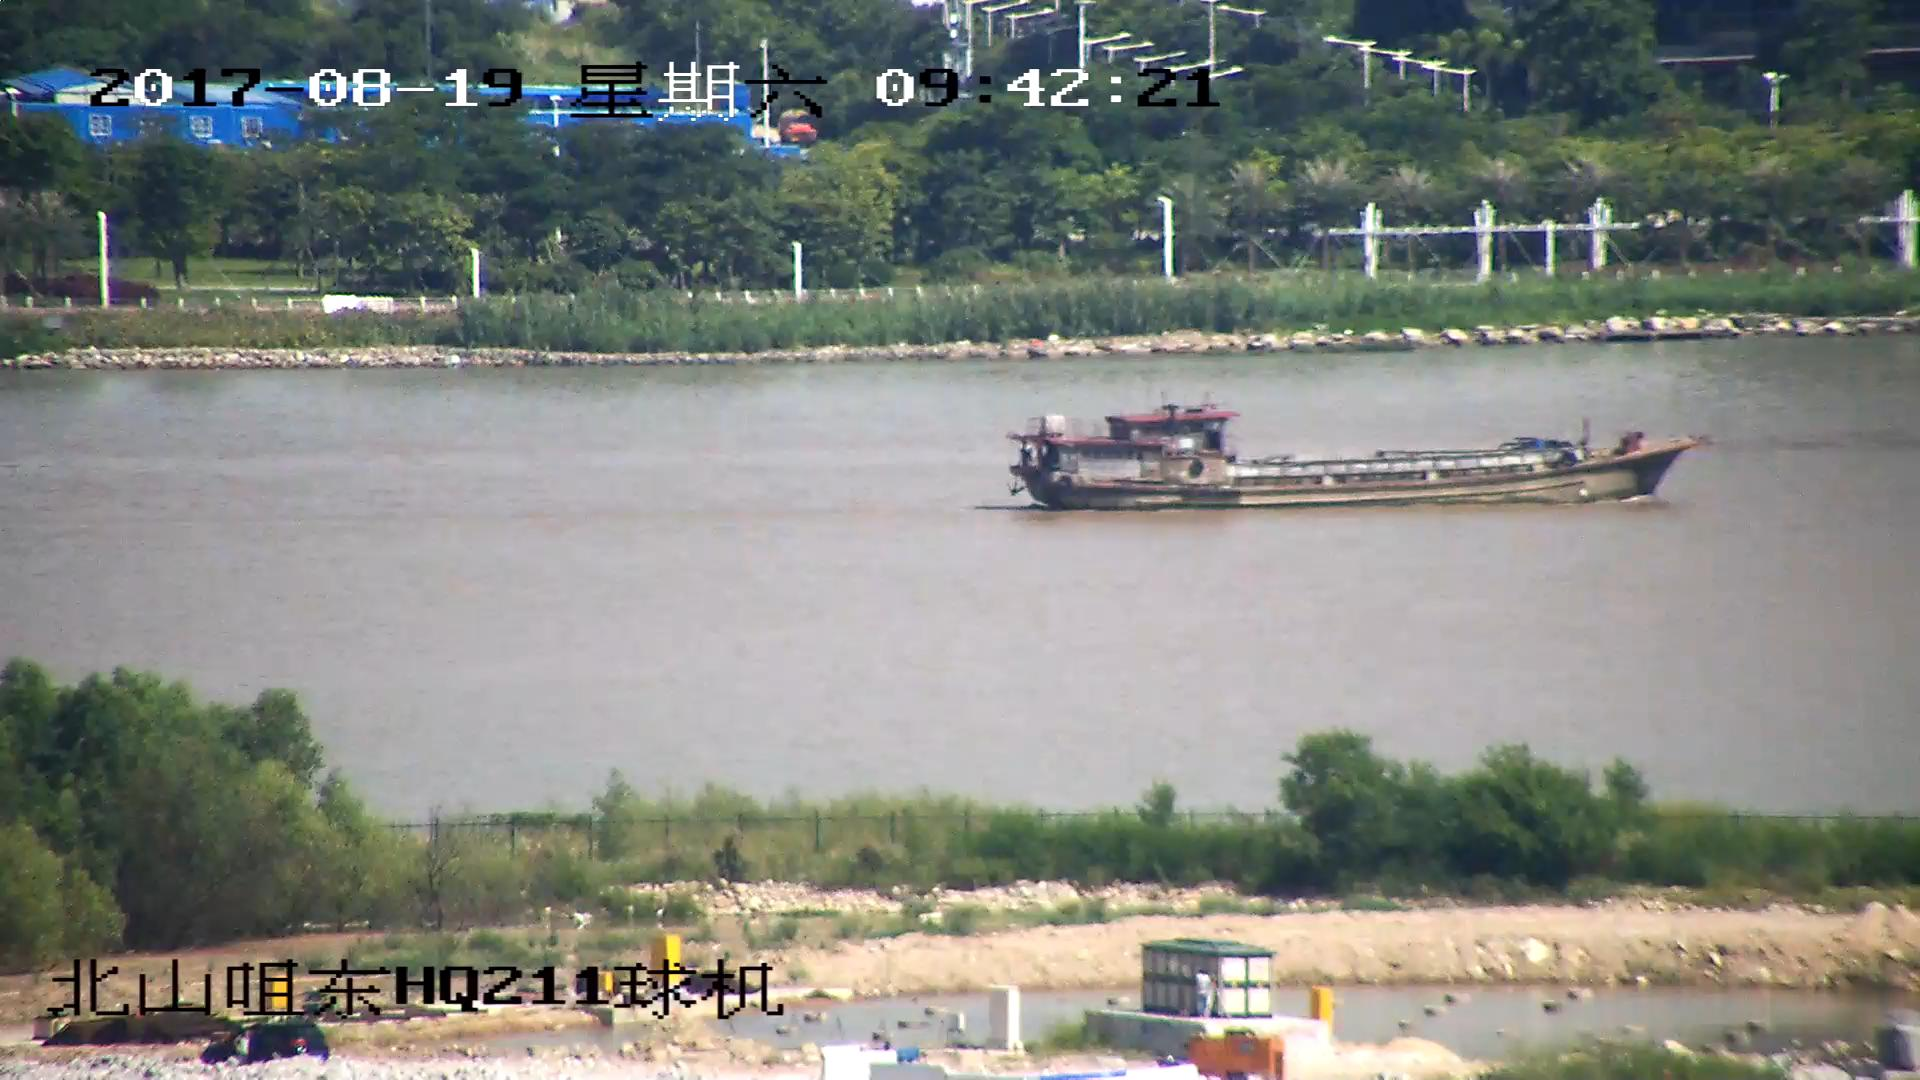fishing boat: (1009, 408, 1703, 508)
